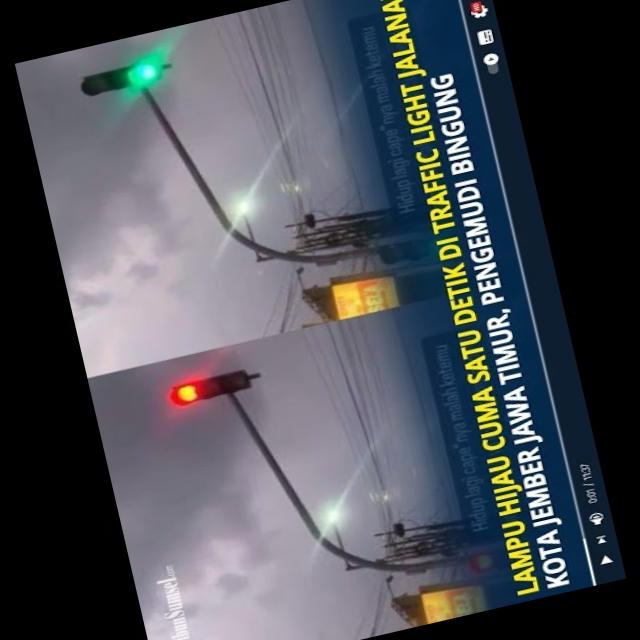green-lights: (128, 58, 160, 86)
red-lights: (175, 382, 198, 402)
